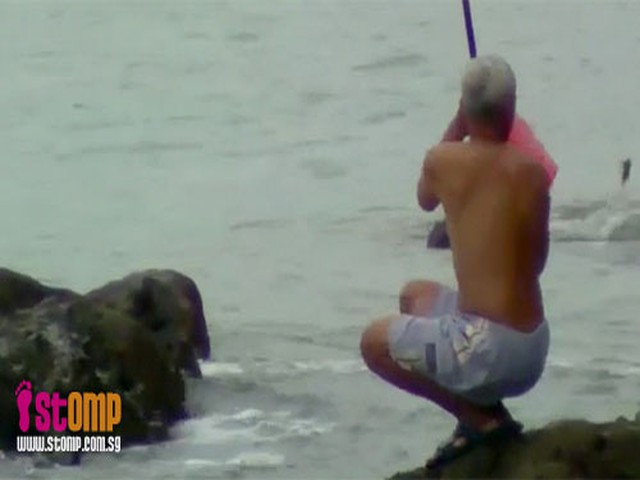Person: (356, 49, 563, 453)
